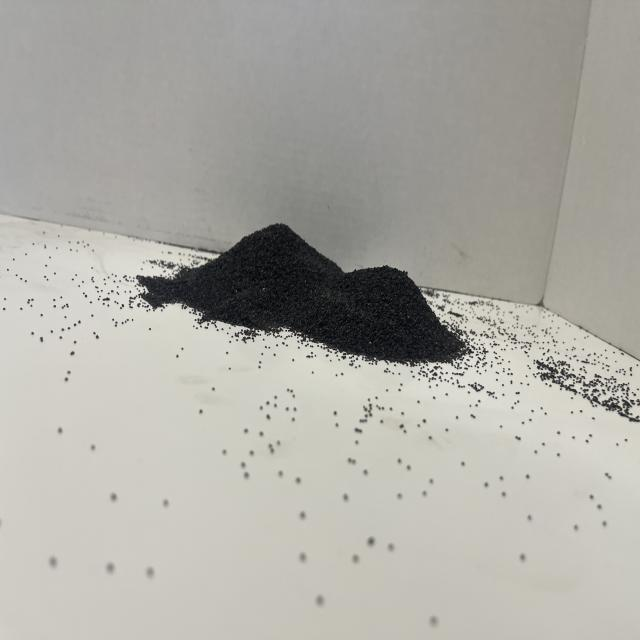Poppy Seeds: (156, 198, 458, 388)
